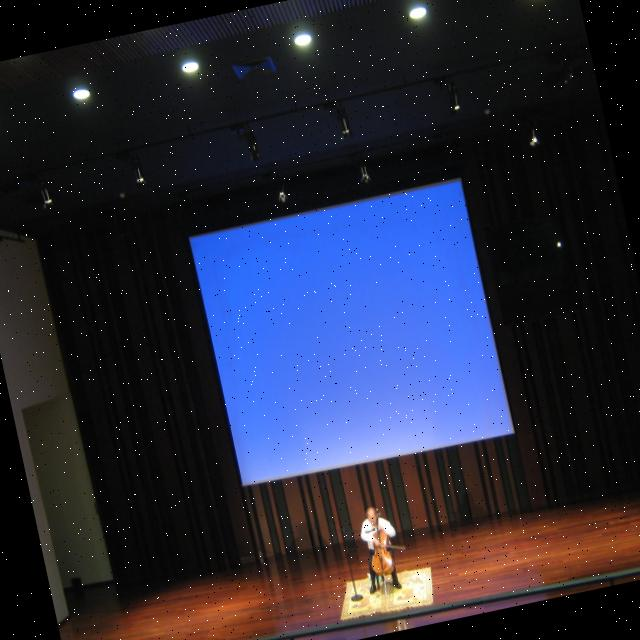cello: (358, 508, 400, 582)
